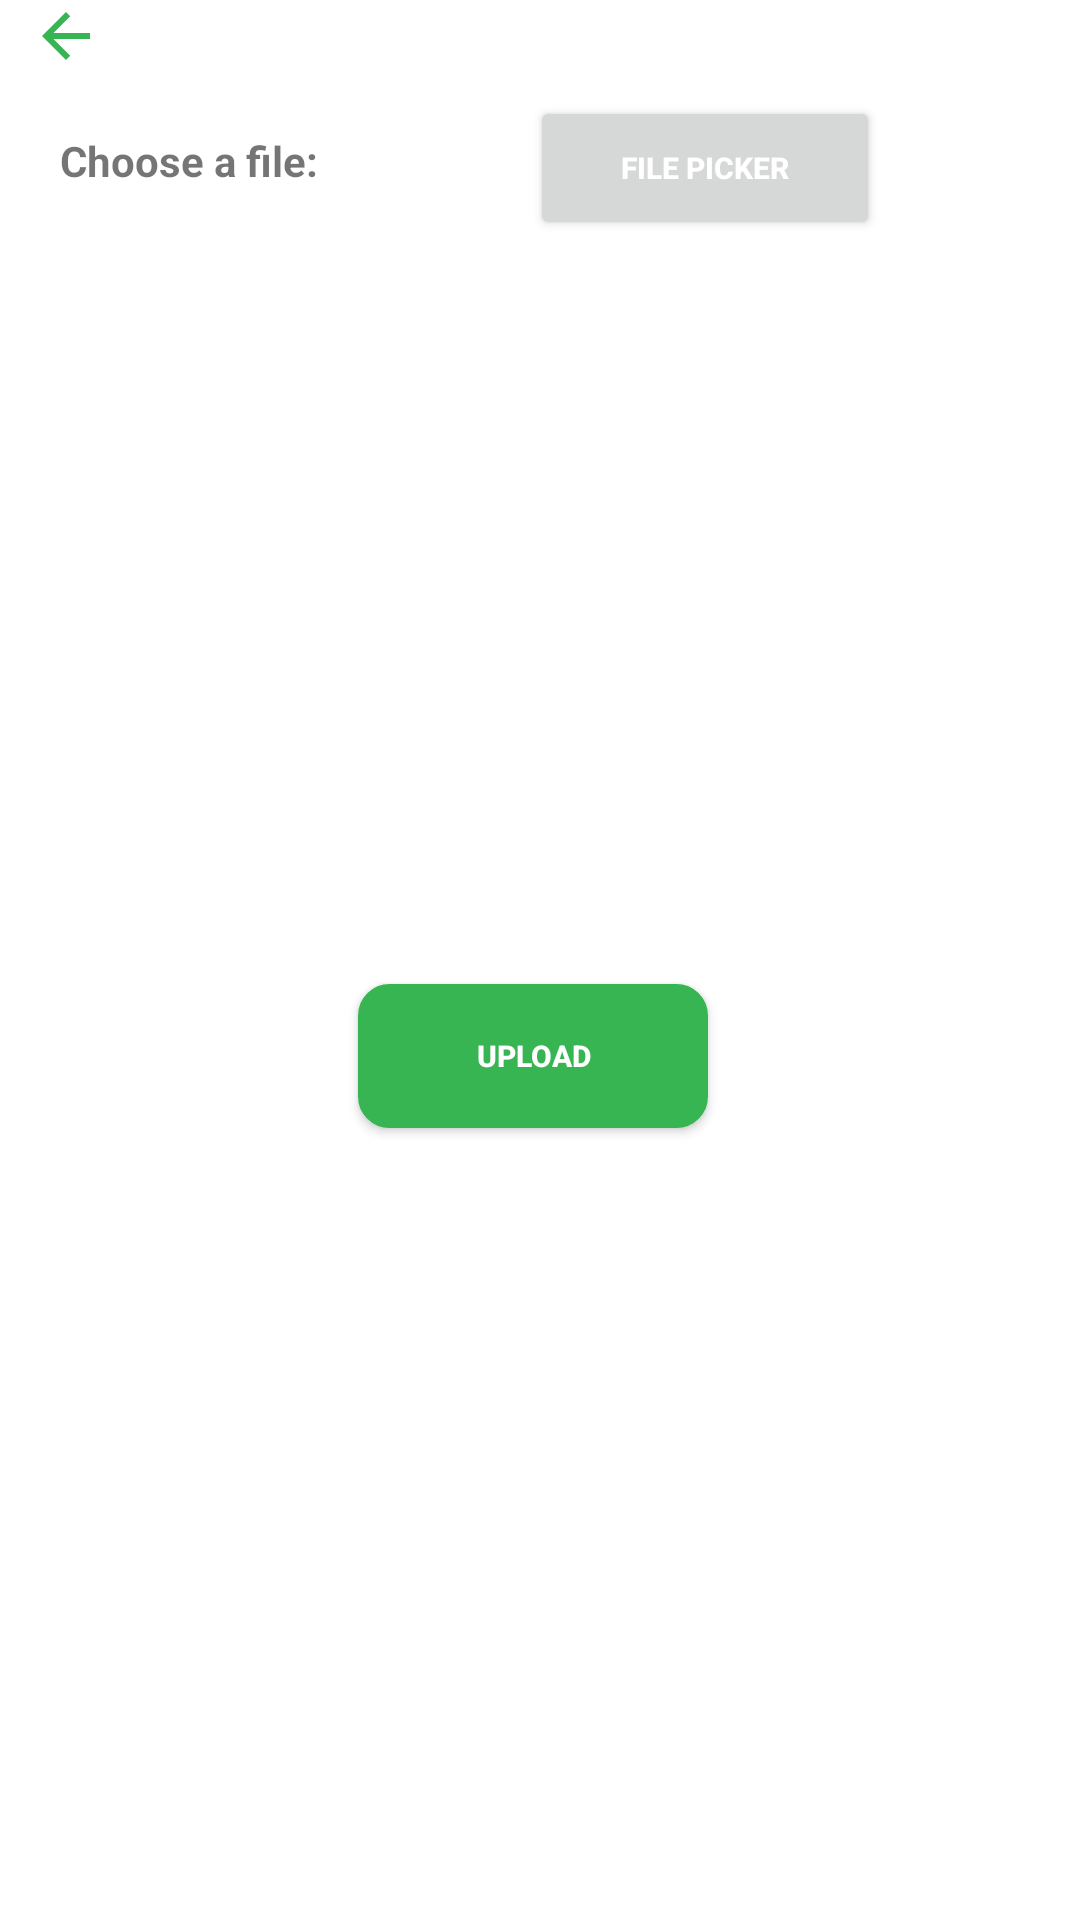

Locate icon controls on the screen. Image size 1080*1920, boxes as (x1, y1, x2, y2).
arrow back: (42, 12, 90, 60)
